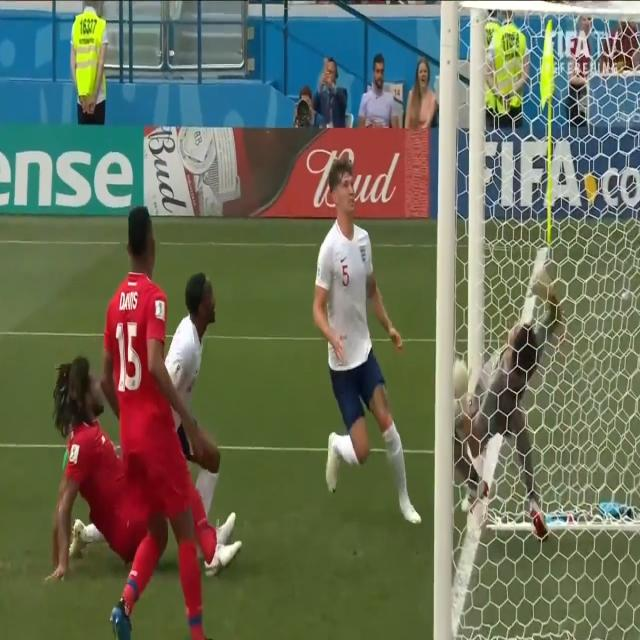player: (101, 204, 205, 638), (308, 152, 423, 529), (44, 345, 120, 589), (171, 270, 222, 492)
